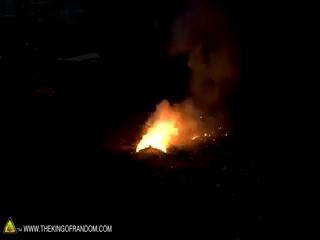Fire: (136, 108, 177, 154)
